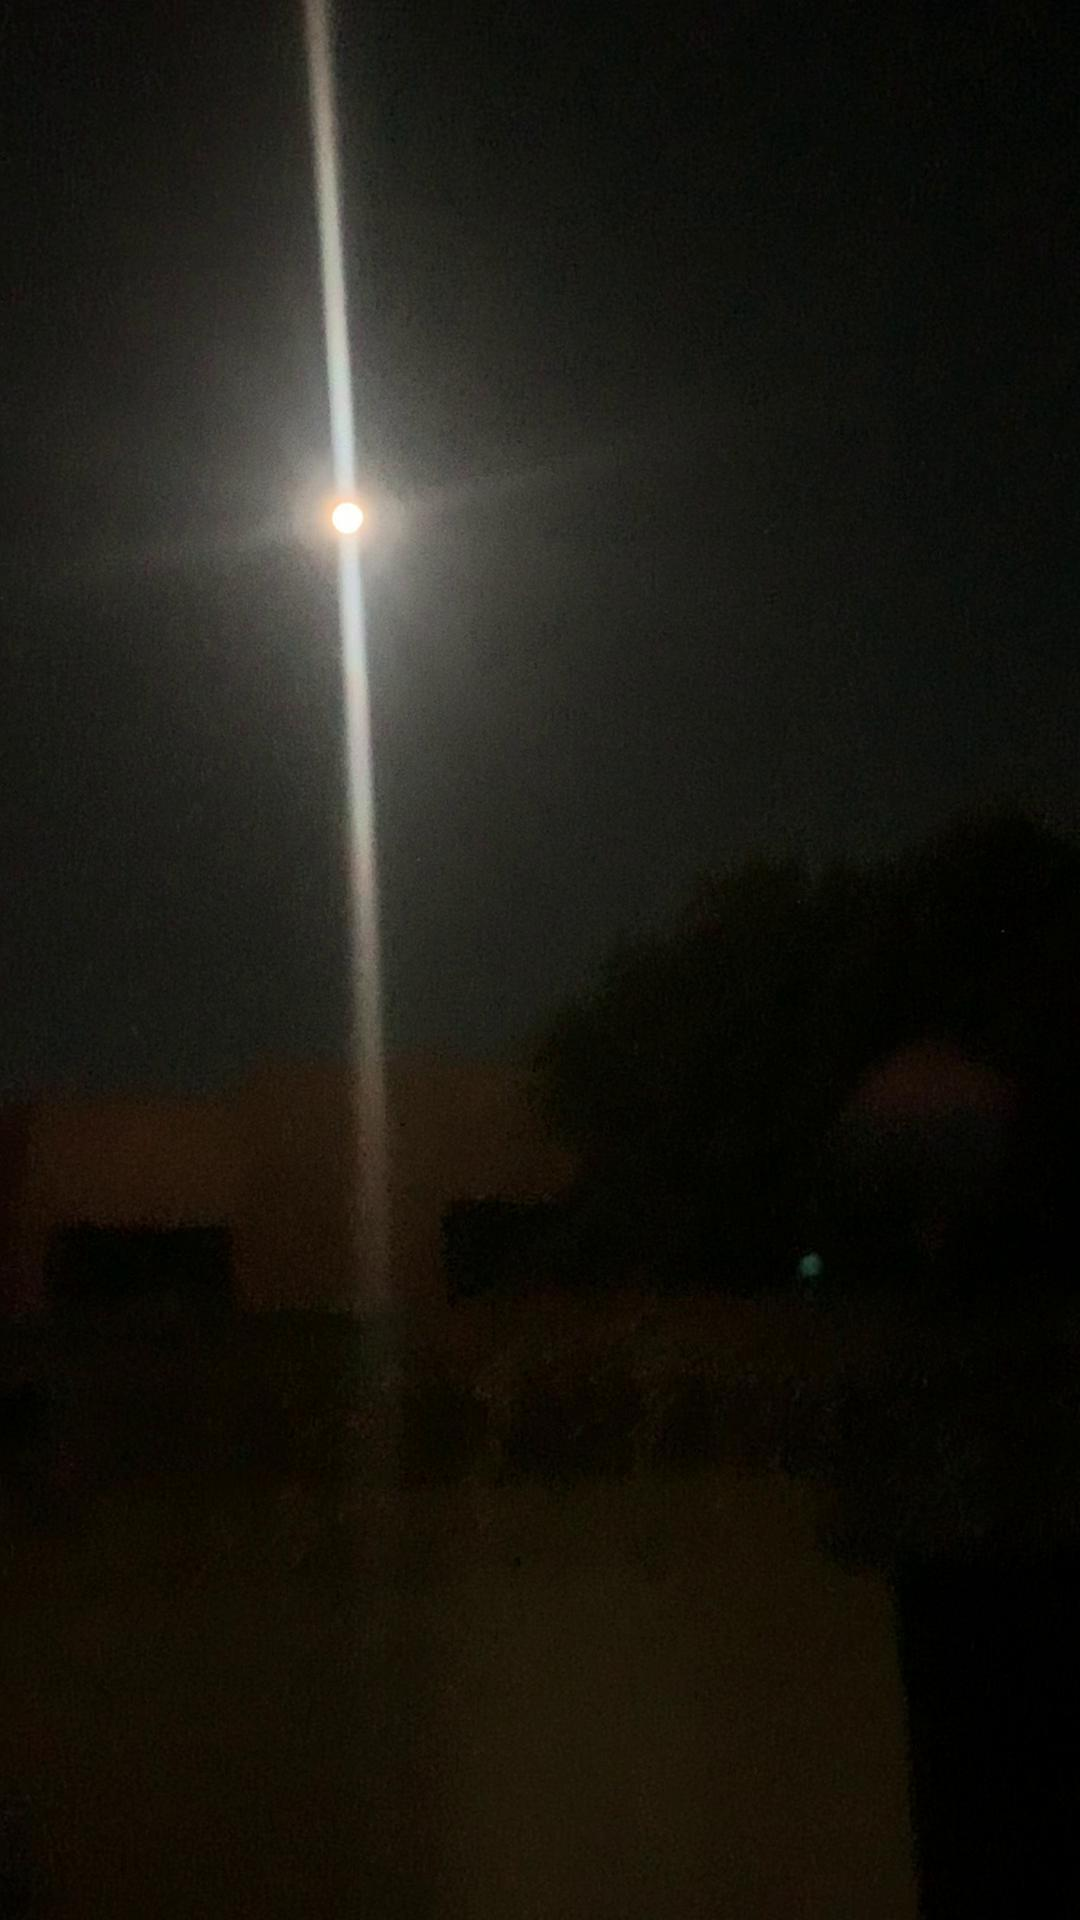moon: (539, 939, 570, 971)
